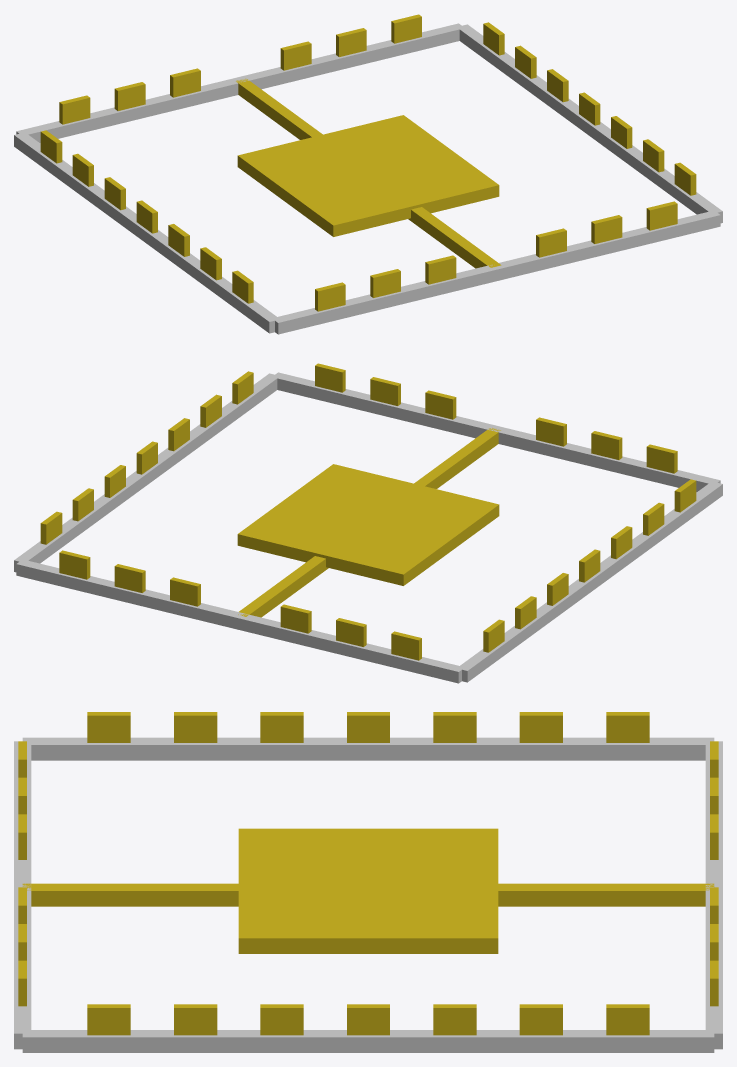
Rendered from BlessedTrap.fbx.
3 renders of one model, top to bottom at view 1: azimuth 30°, elevation 25°; view 2: azimuth 150°, elevation 25°; view 3: azimuth 270°, elevation 25°, orthographic. The views are drawn at different scales.
Visible parts, largest first — view 1: Cube.004, Cube.006, Cube.015, Cube.007, Cube.017, Cube.010, Cube.008, Cube.018, Cube.012, Cube.016, Cube.009, Cube.013 (+16 smaller); view 2: Cube.004, Cube.006, Cube.009, Cube.011, Cube.013, Cube.016, Cube.012, Cube.014, Cube.010, Cube.018, Cube.015, Cube.007 (+16 smaller); view 3: Cube.006, Cube.004, Cube.026, Cube.028, Cube.030, Cube.032, Cube.027, Cube.031, Cube.029, Cube.019, Cube.020, Cube.021 (+4 smaller).
Boxes of the visible parts, left/top/right/bottom form: Cube.004: left=14, top=23, right=722, bottom=334; Cube.006: left=236, top=78, right=501, bottom=268; Cube.015: left=280, top=41, right=311, bottom=70; Cube.007: left=646, top=201, right=677, bottom=230; Cube.017: left=114, top=82, right=145, bottom=110; Cube.010: left=425, top=255, right=456, bottom=284; Cube.008: left=591, top=215, right=622, bottom=243; Cube.018: left=59, top=95, right=90, bottom=124; Cube.012: left=315, top=282, right=345, bottom=311; Cube.016: left=170, top=68, right=200, bottom=97; Cube.009: left=536, top=228, right=566, bottom=257; Cube.013: left=391, top=14, right=421, bottom=43; Cube.004: left=14, top=372, right=722, bottom=683; Cube.006: left=237, top=428, right=500, bottom=617; Cube.009: left=425, top=390, right=456, bottom=419; Cube.011: left=591, top=431, right=622, bottom=459; Cube.013: left=59, top=550, right=90, bottom=579; Cube.016: left=280, top=604, right=311, bottom=633; Cube.012: left=646, top=444, right=677, bottom=473; Cube.014: left=114, top=564, right=145, bottom=592; Cube.010: left=536, top=417, right=566, bottom=446; Cube.018: left=391, top=631, right=421, bottom=660; Cube.015: left=170, top=577, right=200, bottom=606; Cube.007: left=315, top=363, right=345, bottom=392; Cube.006: left=22, top=828, right=714, bottom=953; Cube.004: left=14, top=737, right=722, bottom=1052; Cube.026: left=433, top=1004, right=476, bottom=1035; Cube.028: left=606, top=1004, right=649, bottom=1035; Cube.030: left=260, top=1004, right=303, bottom=1035; Cube.032: left=87, top=1004, right=130, bottom=1035; Cube.027: left=519, top=1004, right=562, bottom=1035; Cube.031: left=174, top=1004, right=217, bottom=1035; Cube.029: left=347, top=1004, right=389, bottom=1035; Cube.019: left=433, top=712, right=476, bottom=742; Cube.020: left=519, top=712, right=562, bottom=742; Cube.021: left=606, top=712, right=649, bottom=742.
Bounding box in the file's own units: 164 × 11 × 164.
